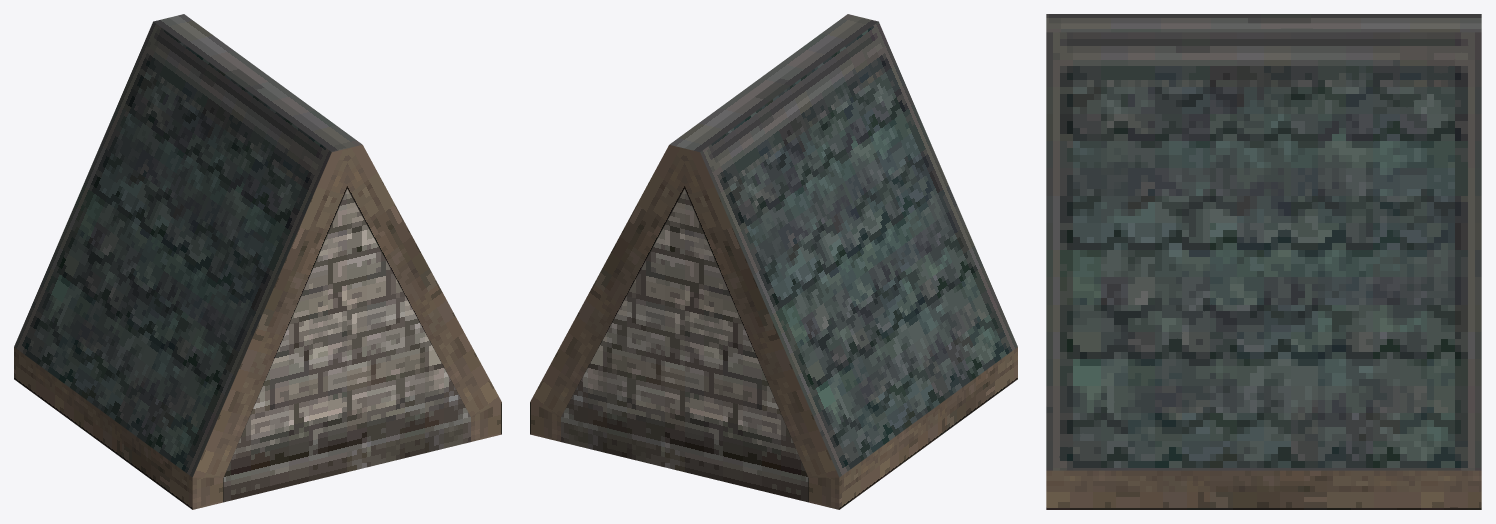
The model's file is roof.glb.
3 renders of one model, left to right at view 1: azimuth 30°, elevation 25°; view 2: azimuth 150°, elevation 25°; view 3: azimuth 270°, elevation 25°, orthographic. The views are drawn at different scales.
Visible parts, largest first — view 1: roof; view 2: roof; view 3: roof.
Part boxes in pixels (box(x1,y1,x2,y2)): roof: box(14, 14, 501, 509); roof: box(530, 14, 1017, 509); roof: box(1046, 14, 1481, 509).
Bounding box in the file's own units: 3 × 3 × 3.
4 materials, 4 textured.
